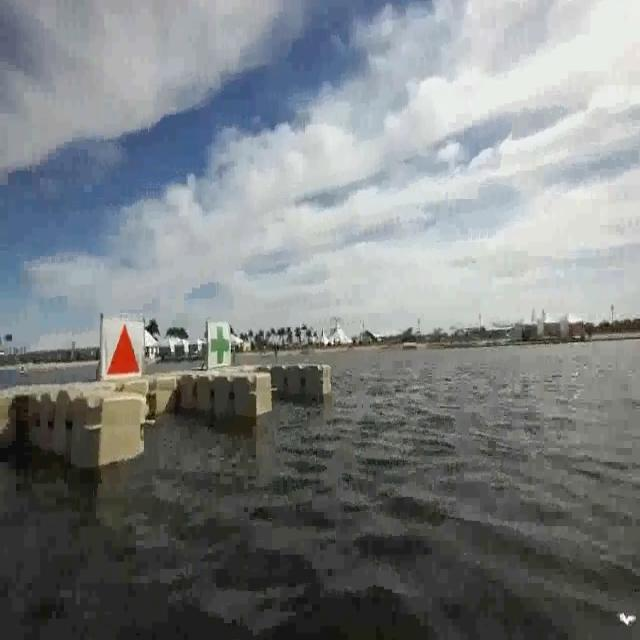blue-cross: (208, 323, 231, 371)
red-dot: (104, 317, 144, 381)
